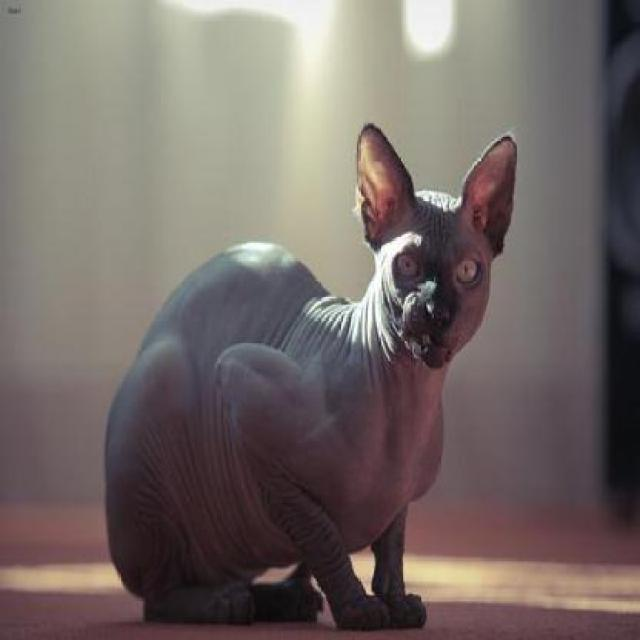cat: (104, 121, 516, 624)
